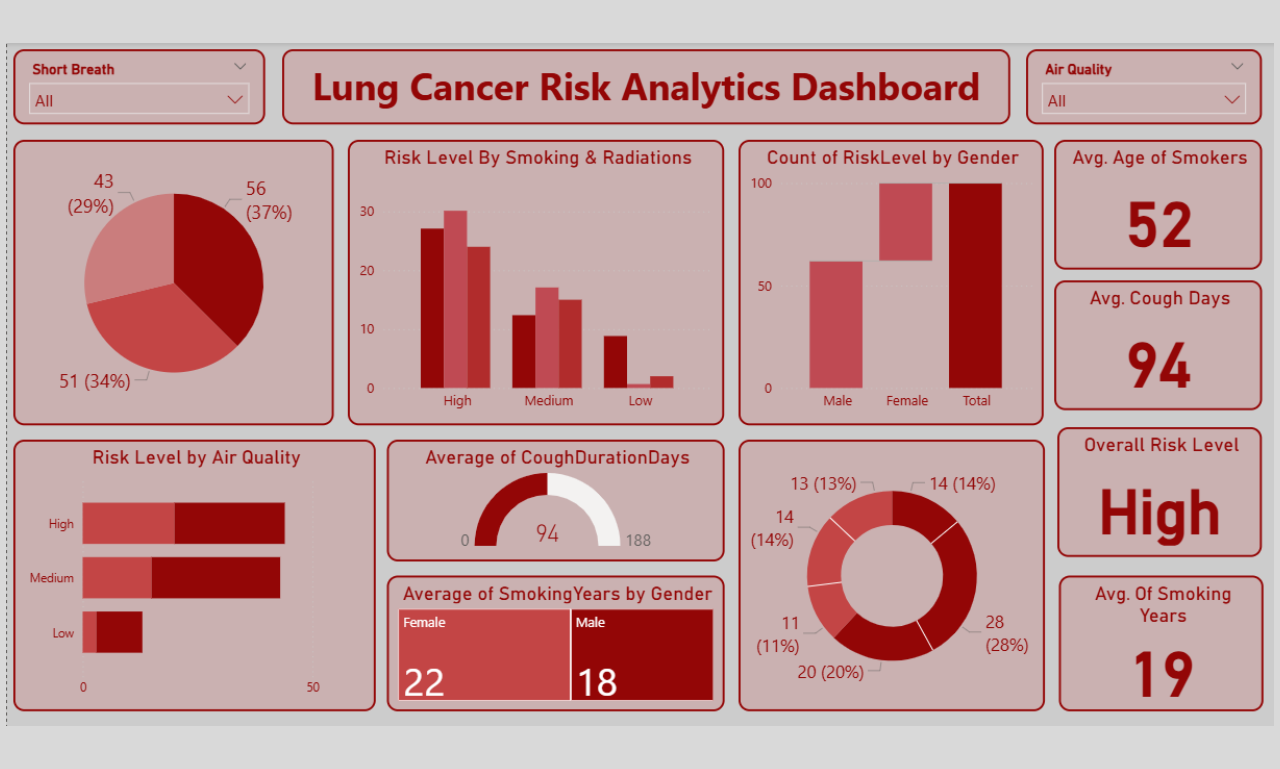

What the dashboard file says about the page in this screenshot:
{"tool":"powerbi","page":{"name":"Page 1","canvas":[1280,720],"ordinal":0},"visuals":[{"type":"barChart","title":"Risk Level by Air Quality","fields":{"Y":["CountNonNull(lung_cancer_risk_dataset.AirQualityExposure)"],"Category":["lung_cancer_risk_dataset.RiskLevel"],"Series":["lung_cancer_risk_dataset.Gender"]},"box":[6.3,412.9,362.9,272.2],"z":0},{"type":"pieChart","fields":{"Category":["lung_cancer_risk_dataset.RiskLevel"],"Y":["Avg(lung_cancer_risk_dataset.Age)"]},"box":[6.3,112.6,320.7,286.2],"z":1000},{"type":"gauge","fields":{"Y":["Avg(lung_cancer_risk_dataset.CoughDurationDays)"]},"box":[380.1,412.9,337.9,122],"z":2000},{"type":"waterfallChart","fields":{"Category":["lung_cancer_risk_dataset.Gender","lung_cancer_risk_dataset.RadiationExposure"],"Y":["CountNonNull(lung_cancer_risk_dataset.RiskLevel)"]},"box":[732,112.6,305,286.2],"z":3000},{"type":"donutChart","fields":{"Y":["CountNonNull(lung_cancer_risk_dataset.FamilyHistory)"],"Category":["lung_cancer_risk_dataset.Gender"],"Series":["lung_cancer_risk_dataset.RadiationExposure"]},"box":[732,412.9,306.6,272.2],"z":4000},{"type":"treemap","fields":{"Group":["lung_cancer_risk_dataset.Gender"],"Values":["Avg(lung_cancer_risk_dataset.SmokingYears)"]},"box":[380.1,549,337.9,136.1],"z":5000},{"type":"card","title":"Avg. Of Smoking Years","fields":{"Values":["Avg(lung_cancer_risk_dataset.SmokingYears)"]},"box":[1052.7,549,204.9,136.1],"z":6000},{"type":"card","title":"Overall Risk Level","fields":{"Values":["Min(lung_cancer_risk_dataset.RiskLevel)"]},"box":[1051.1,400.4,204.9,129.8],"z":7000},{"type":"card","title":"Avg. Age of Smokers","fields":{"Values":["Avg(lung_cancer_risk_dataset.Age)"]},"box":[1048,112.6,208,129.8],"z":8000},{"type":"slicer","fields":{"Values":["lung_cancer_risk_dataset.ShortnessOfBreath"]},"box":[6.3,21.9,251.8,75.1],"z":9000},{"type":"slicer","fields":{"Values":["lung_cancer_risk_dataset.AirQualityExposure"]},"box":[1019.8,21.9,236.2,75.1],"z":10000},{"type":"card","title":"Avg. Cough Days","fields":{"Values":["Avg(lung_cancer_risk_dataset.CoughDurationDays)"]},"box":[1048,253.4,208,129.8],"z":11000},{"type":"textbox","box":[275.3,21.9,728.9,75.1],"z":12000},{"type":"clusteredColumnChart","title":"Risk Level By Smoking & Radiations","fields":{"Category":["lung_cancer_risk_dataset.RiskLevel"],"Y":["Avg(lung_cancer_risk_dataset.SmokingYears)"],"Series":["lung_cancer_risk_dataset.RadiationExposure"]},"box":[341,112.6,377,286.2],"z":13000}]}

Visuals, with their boxes in screenshot pixels (x1, y1, x2, y2):
"Risk Level by Air Quality" barChart: region(20, 437, 377, 706)
pieChart - lung_cancer_risk_dataset.RiskLevel x Avg(lung_cancer_risk_dataset.Age): region(20, 141, 336, 423)
gauge - Avg(lung_cancer_risk_dataset.CoughDurationDays): region(388, 437, 721, 558)
waterfallChart - lung_cancer_risk_dataset.Gender x lung_cancer_risk_dataset.RadiationExposure: region(735, 141, 1036, 423)
donutChart - CountNonNull(lung_cancer_risk_dataset.FamilyHistory) x lung_cancer_risk_dataset.Gender: region(735, 437, 1038, 706)
treemap - lung_cancer_risk_dataset.Gender x Avg(lung_cancer_risk_dataset.SmokingYears): region(388, 571, 721, 706)
"Avg. Of Smoking Years" card: region(1051, 571, 1254, 706)
"Overall Risk Level" card: region(1050, 425, 1252, 553)
"Avg. Age of Smokers" card: region(1047, 141, 1252, 269)
slicer - lung_cancer_risk_dataset.ShortnessOfBreath: region(20, 52, 268, 126)
slicer - lung_cancer_risk_dataset.AirQualityExposure: region(1019, 52, 1252, 126)
"Avg. Cough Days" card: region(1047, 280, 1252, 408)
textbox: region(285, 52, 1004, 126)
"Risk Level By Smoking & Radiations" clusteredColumnChart: region(350, 141, 721, 423)
